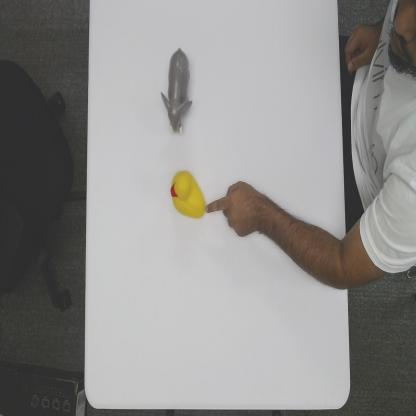Arm: (262, 191, 346, 296)
Duck: (169, 168, 206, 221)
Elephant: (160, 48, 194, 137)
Hand: (206, 174, 260, 238)
